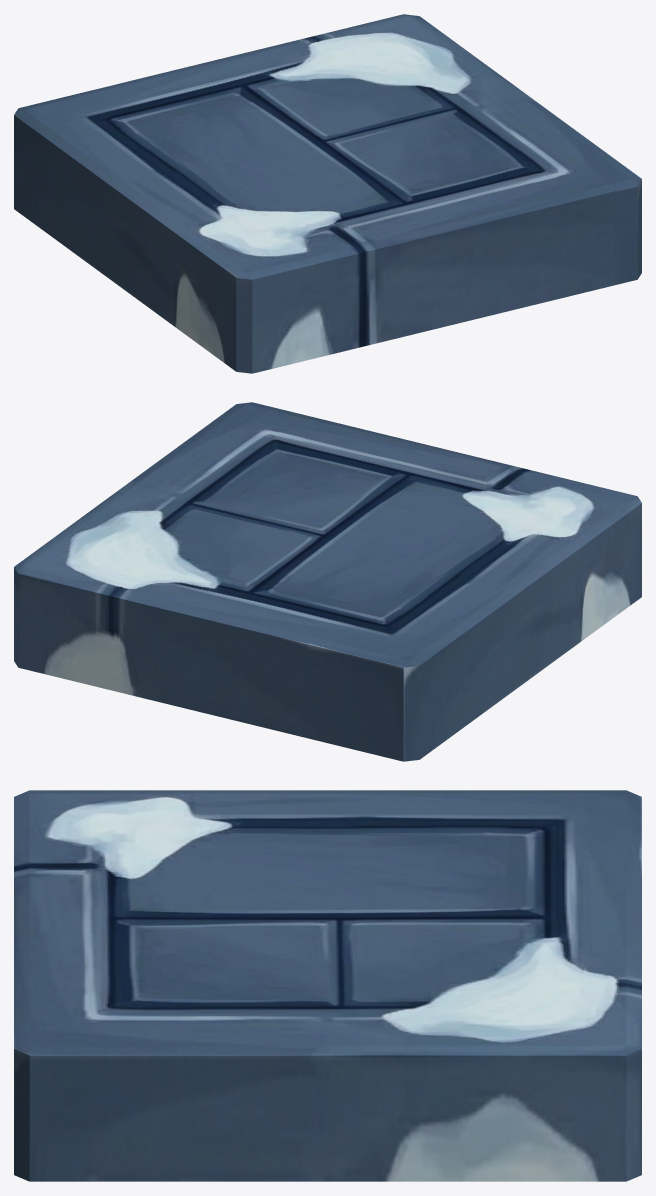
The model's file is stoneTiles02.glb.
3 renders of one model, top to bottom at view 1: azimuth 30°, elevation 25°; view 2: azimuth 150°, elevation 25°; view 3: azimuth 270°, elevation 25°, orthographic. The views are drawn at different scales.
Visible parts, largest first — view 1: StoneTiles02; view 2: StoneTiles02; view 3: StoneTiles02.
Boxes of the visible parts, x1=… form: StoneTiles02: x1=14, y1=14, x2=641, y2=373; StoneTiles02: x1=14, y1=402, x2=641, y2=761; StoneTiles02: x1=14, y1=790, x2=641, y2=1181.
Size of the model in its own units: 3 by 0.7 by 3.
Materials: 1 (1 with a texture image).
